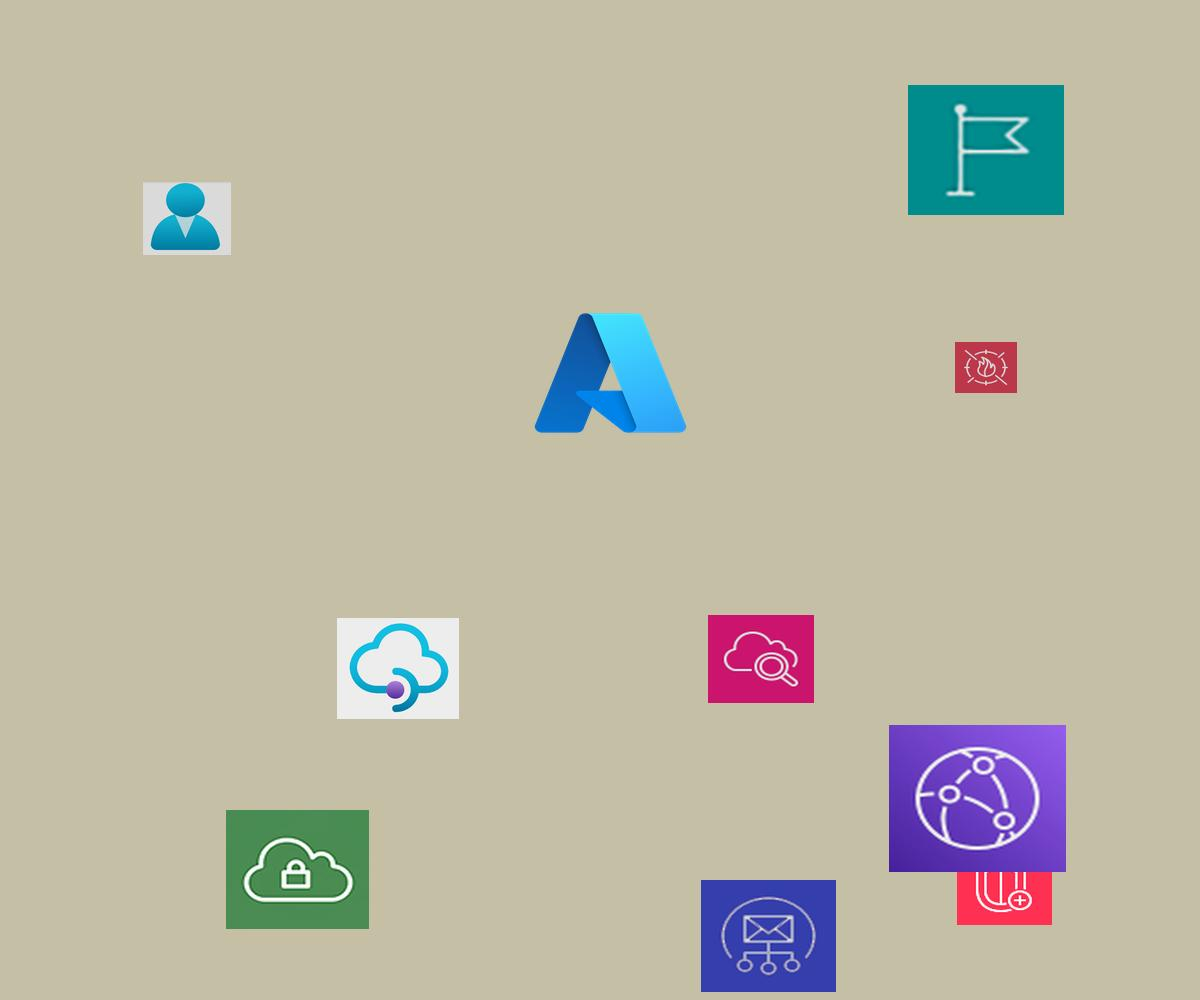AWS-CloudFront: (889, 725, 1066, 872)
AWS-CloudWatch: (708, 615, 814, 703)
AWS-Private_vpc: (226, 810, 369, 929)
AWS-Region: (908, 85, 1064, 215)
AWS-Shield: (957, 846, 1052, 925)
AWS-Simple-Email-Service: (701, 880, 836, 992)
AWS-WAF: (955, 342, 1017, 393)
Azure_api_gateway: (337, 618, 459, 719)
Azure_services: (528, 304, 693, 442)
Azure_users: (143, 182, 231, 255)
